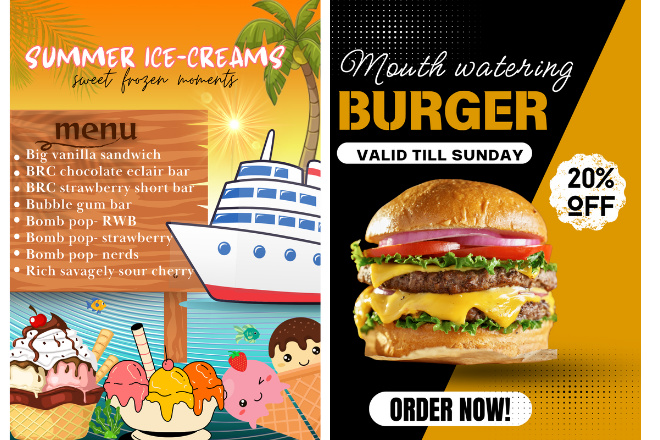CTA: (388, 397, 513, 426)
Headline: (23, 39, 574, 140)
Price: (561, 162, 619, 221)
Product: (10, 306, 320, 438), (351, 179, 558, 362)
